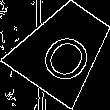O_NE: (29, 16, 97, 83)
